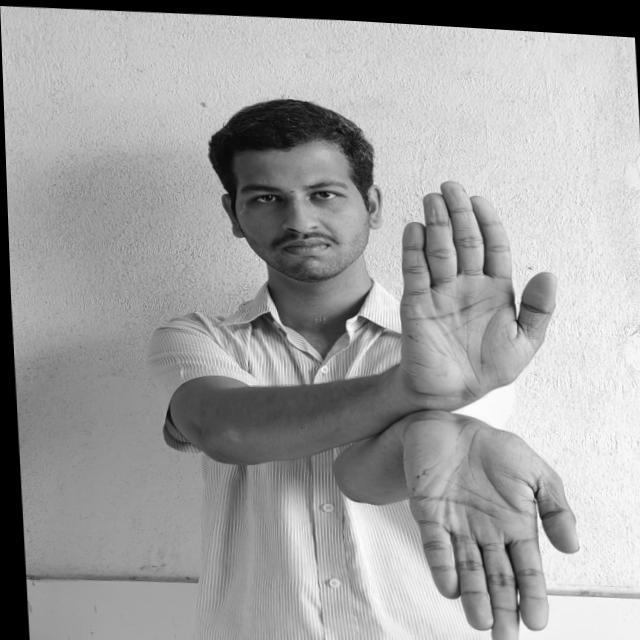Morning: (384, 168, 585, 640)
